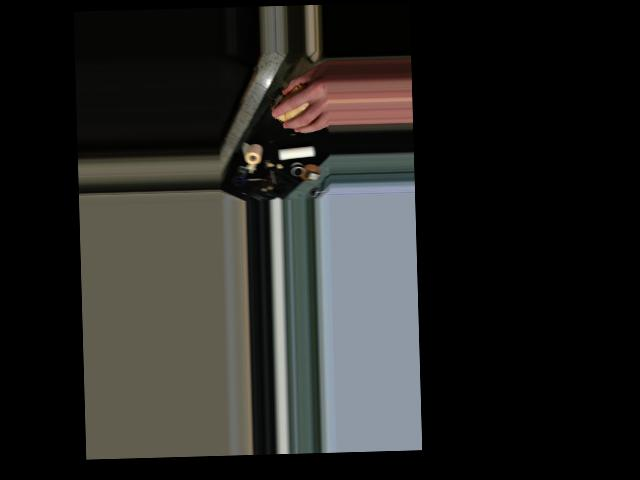onion: (272, 82, 317, 125)
